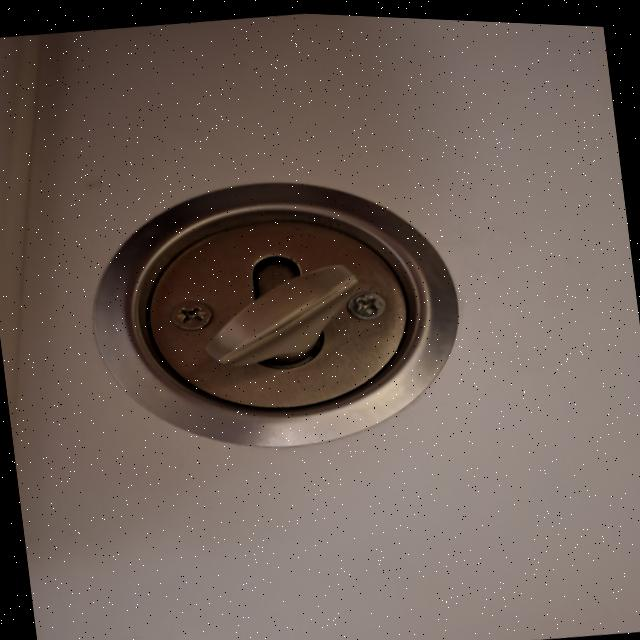Phillips: (344, 288, 386, 323)
Pozidriv: (164, 297, 216, 333)
